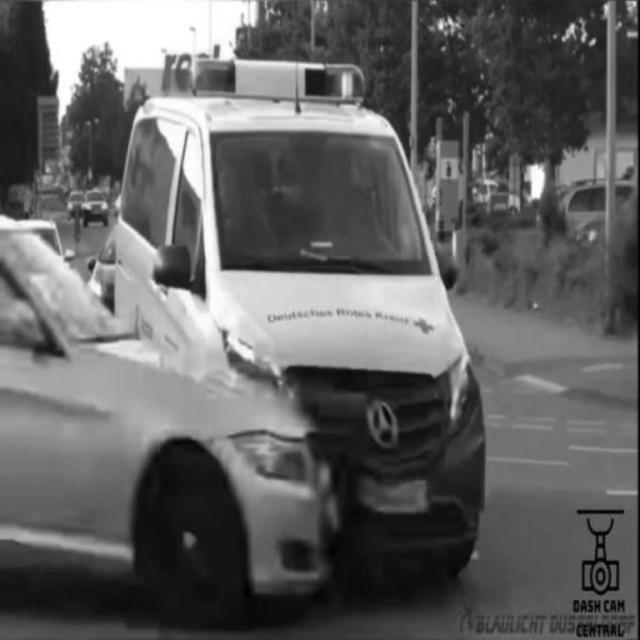accident: (41, 95, 492, 601)
vehicle: (82, 188, 110, 226)
